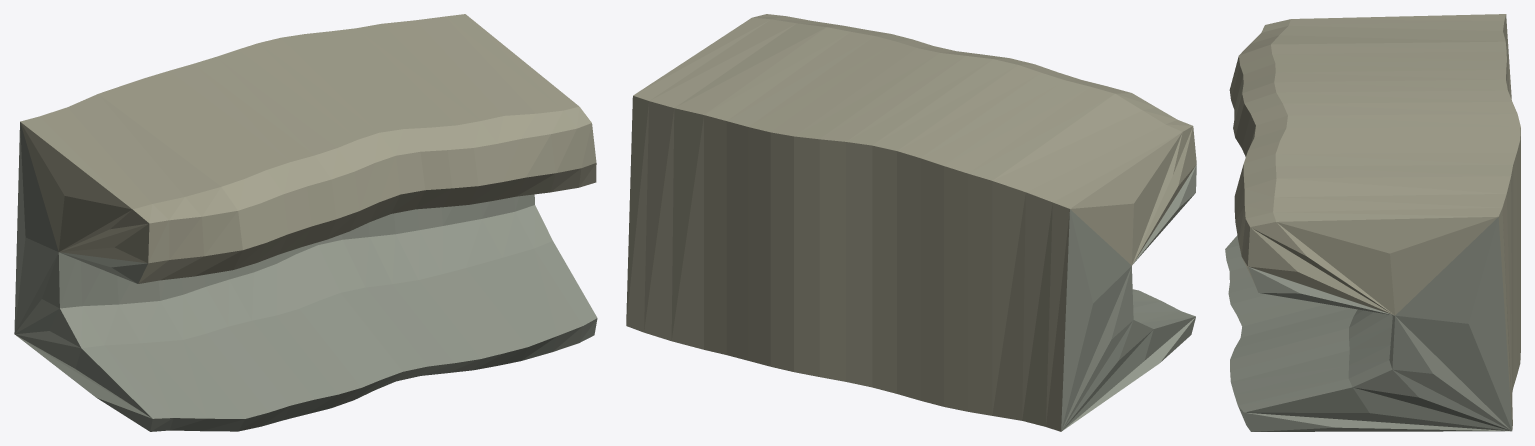
The picture shows the model from 3 angles, left to right: view 1: azimuth 30°, elevation 25°; view 2: azimuth 150°, elevation 25°; view 3: azimuth 270°, elevation 25°; orthographic projection. The views are drawn at different scales.
Parts seen in each view (by area): view 1: continuous-rock-lod0; view 2: continuous-rock-lod0; view 3: continuous-rock-lod0.
Boxes of the visible parts, x1,y1,x2,y2 form: continuous-rock-lod0: [14, 14, 597, 431]; continuous-rock-lod0: [626, 14, 1196, 431]; continuous-rock-lod0: [1225, 14, 1520, 431].
Bounding box in the file's own units: 1.1 × 0.55 × 0.6322.
